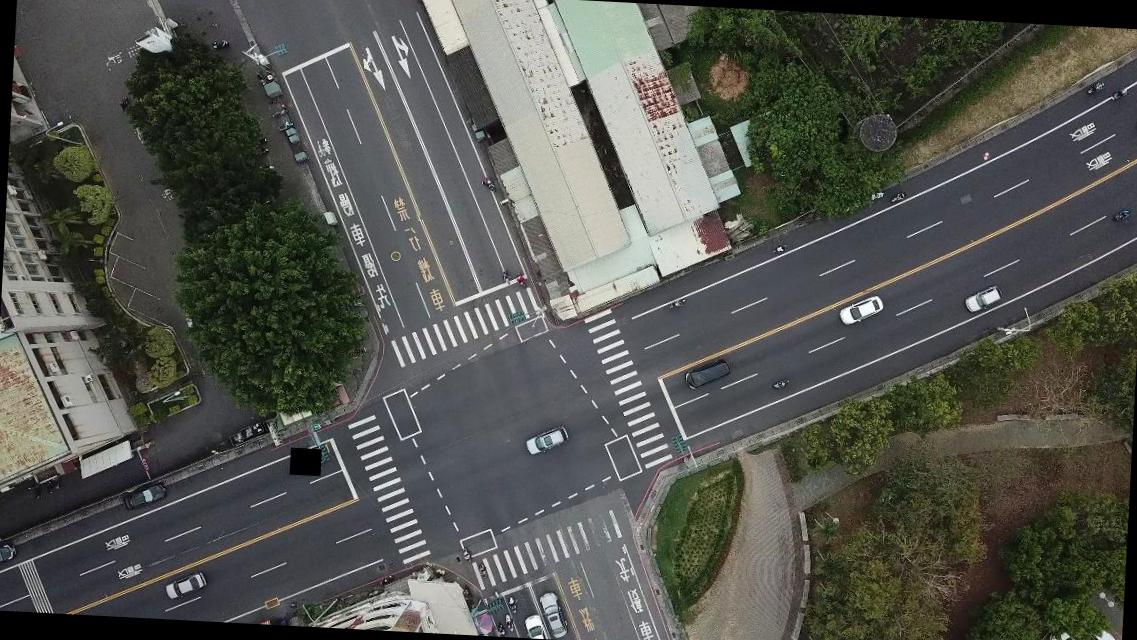vehicle: (535, 588, 569, 640), (836, 292, 885, 328), (682, 358, 732, 392), (522, 422, 568, 458), (163, 570, 206, 602), (122, 481, 166, 512), (963, 284, 1002, 314), (1081, 609, 1118, 639), (1044, 628, 1095, 639), (0, 540, 18, 567)
